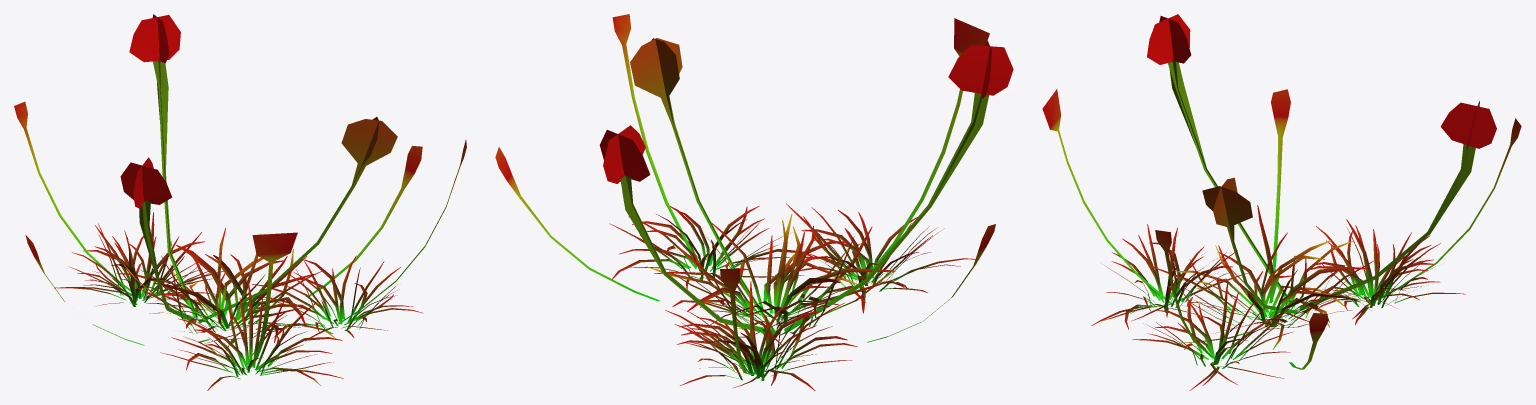
File: Var3_LOD2.fbx
The picture shows the model from 3 angles, left to right: view 1: azimuth 30°, elevation 25°; view 2: azimuth 150°, elevation 25°; view 3: azimuth 270°, elevation 25°; orthographic projection. The views are drawn at different scales.
Visible parts, largest first — view 1: _9pyo_Var3_LOD2; view 2: _9pyo_Var3_LOD2; view 3: _9pyo_Var3_LOD2.
Boxes of the visible parts, x1,y1,x2,y2 form: _9pyo_Var3_LOD2: [14, 14, 466, 390]; _9pyo_Var3_LOD2: [495, 14, 1013, 390]; _9pyo_Var3_LOD2: [1042, 14, 1521, 390].
Bounding box in the file's own units: 33.41 × 18.41 × 33.55.
